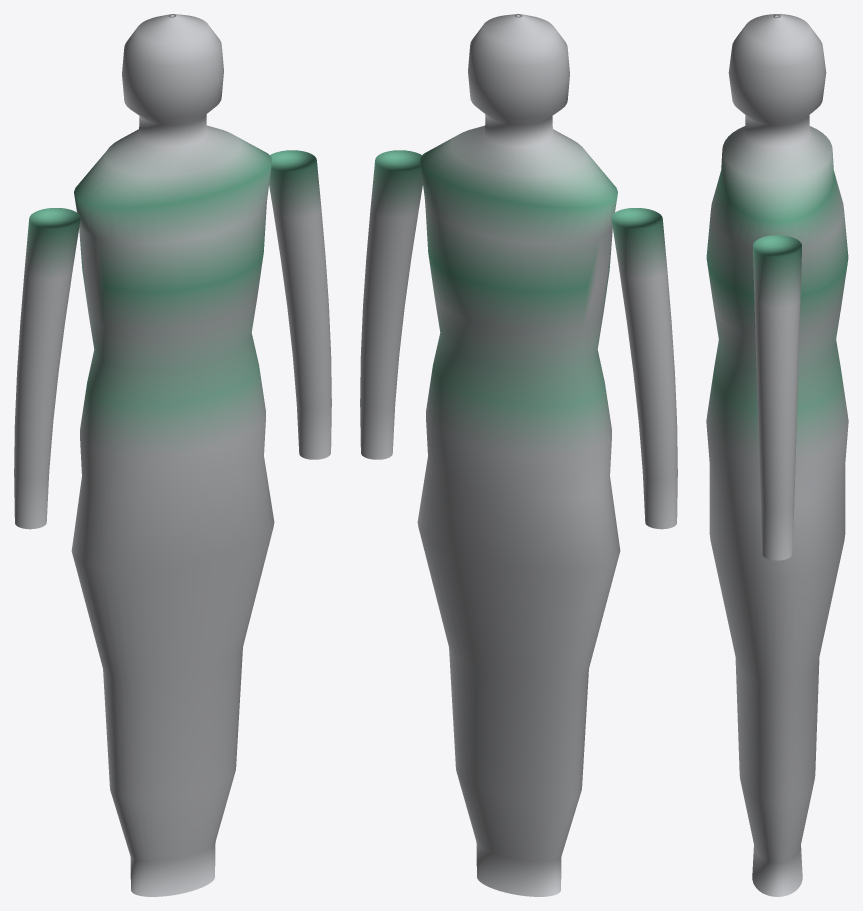
The model's file is heat-tshirt.glb.
The picture shows the model from 3 angles, left to right: view 1: azimuth 30°, elevation 25°; view 2: azimuth 150°, elevation 25°; view 3: azimuth 270°, elevation 25°; orthographic projection.
Visible parts, largest first — view 1: stand_in_body; view 2: stand_in_body; view 3: stand_in_body.
Boxes of the visible parts, x1,y1,x2,y2 form: stand_in_body: [14, 14, 331, 896]; stand_in_body: [360, 14, 677, 896]; stand_in_body: [706, 14, 848, 896].
Size of the model in its own units: 0.6506 by 1.72 by 0.2578.
